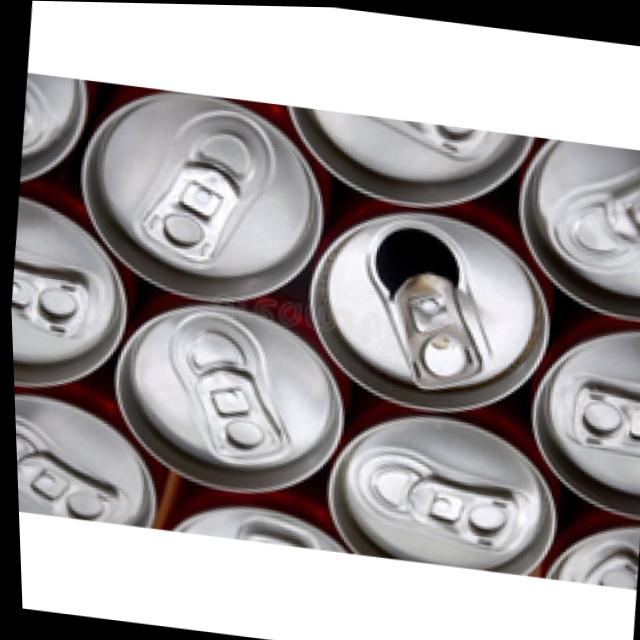aluminum_soda_cans: (304, 197, 567, 426), (74, 90, 318, 312), (109, 306, 340, 515), (310, 404, 558, 580), (526, 317, 640, 504)
